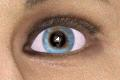eye: (44, 27, 74, 53)
